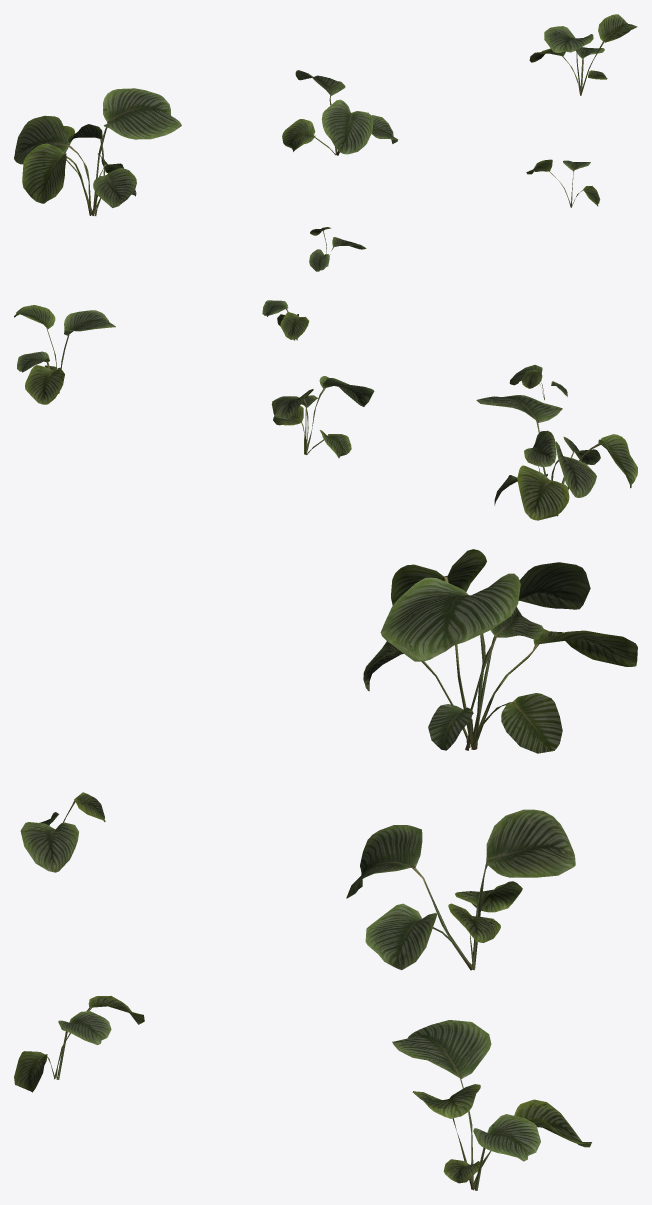
Rendered from calathea_orbifolia_01.glb.
3 renders of one model, top to bottom at view 1: azimuth 30°, elevation 25°; view 2: azimuth 150°, elevation 25°; view 3: azimuth 270°, elevation 25°, orthographic. The views are drawn at different scales.
Visible parts, largest first — view 1: calathea_orbifolia_01_a; view 2: calathea_orbifolia_01_a; view 3: calathea_orbifolia_01_a.
Part boxes in pixels (<box>): calathea_orbifolia_01_a: <box>14,14,637,271</box>; calathea_orbifolia_01_a: <box>14,300,637,520</box>; calathea_orbifolia_01_a: <box>14,549,637,1190</box>.
Size of the model in its own units: 2.49 by 0.4243 by 1.19.
Materials: 1 (1 with a texture image).
